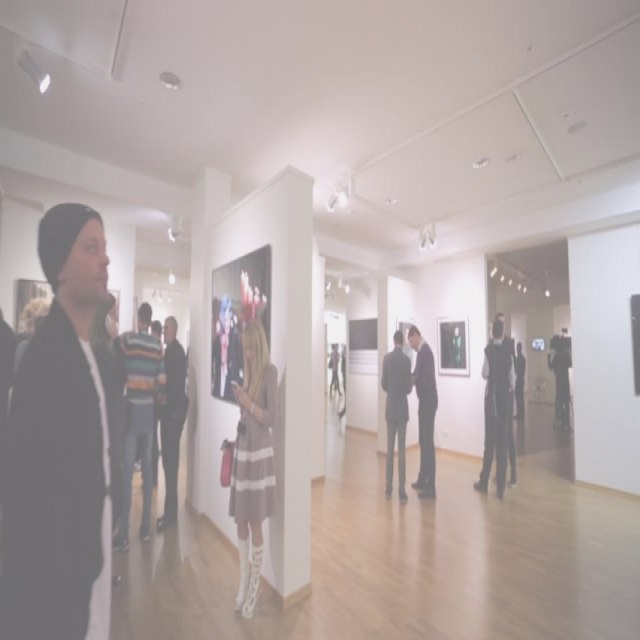pessoa: (3, 200, 112, 639), (218, 316, 278, 619), (111, 300, 167, 550), (472, 317, 518, 500), (153, 314, 190, 534), (403, 322, 438, 498), (380, 328, 412, 503), (494, 310, 518, 490), (12, 296, 54, 375), (150, 318, 166, 490), (212, 288, 237, 395), (545, 333, 571, 431), (0, 300, 15, 410), (338, 344, 356, 426), (513, 341, 527, 423), (328, 341, 342, 396), (104, 289, 118, 332), (330, 342, 340, 389), (452, 322, 462, 367)
